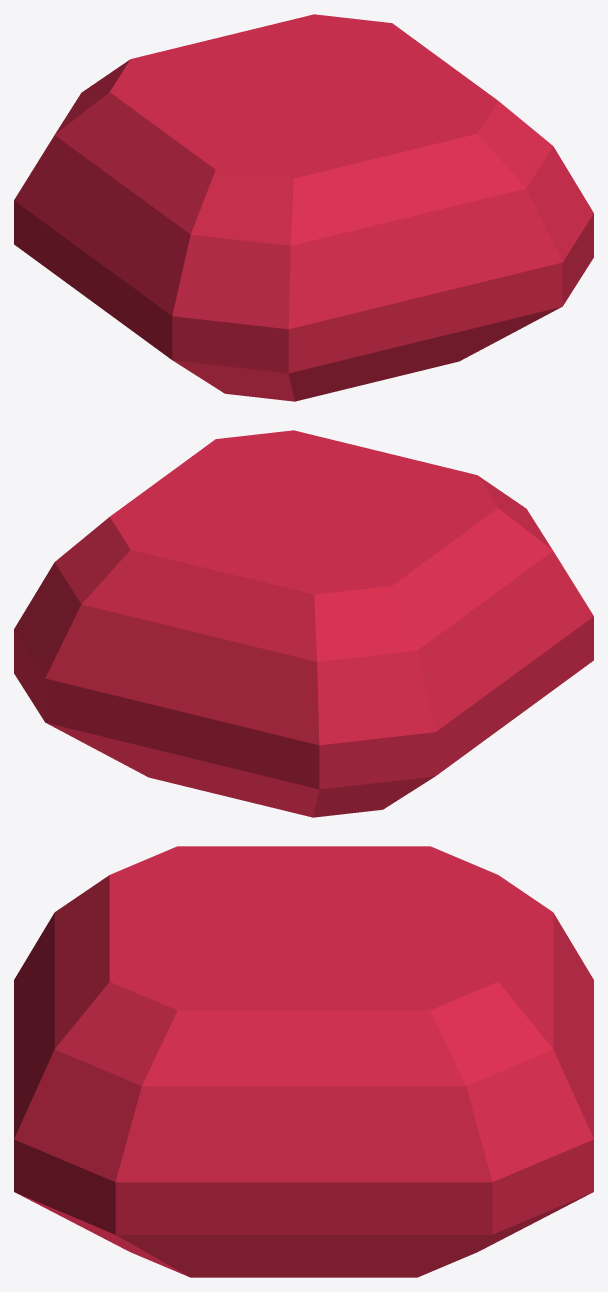
File: SM_Ruby_Flawless.fbx
3 views of the same model, one above another, from view 1: azimuth 30°, elevation 25°; view 2: azimuth 150°, elevation 25°; view 3: azimuth 270°, elevation 25° (orthographic). The views are drawn at different scales.
Parts seen in each view (by area): view 1: SM_Ruby_Flawless; view 2: SM_Ruby_Flawless; view 3: SM_Ruby_Flawless.
Part boxes in pixels (box(x1,y1,x2,y2)): SM_Ruby_Flawless: box(14, 14, 593, 401); SM_Ruby_Flawless: box(14, 430, 593, 817); SM_Ruby_Flawless: box(14, 846, 593, 1277).
Size of the model in its own units: 20 by 20 by 12.5.
